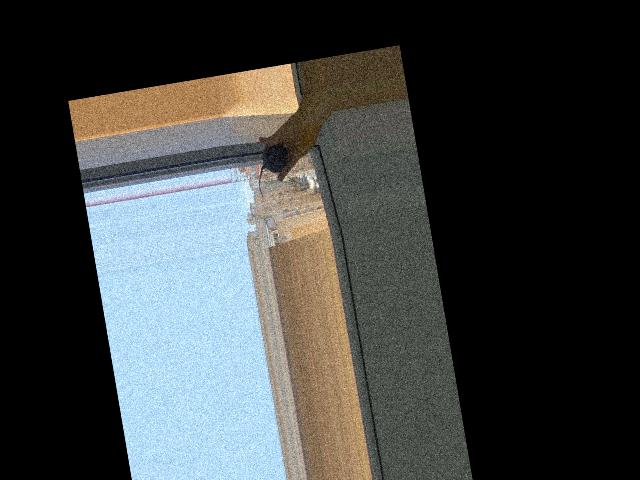beet: (252, 143, 294, 198)
